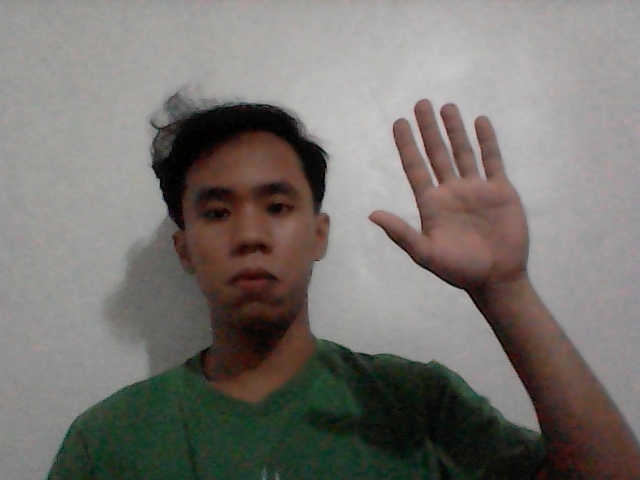Hello: (349, 85, 567, 321)
